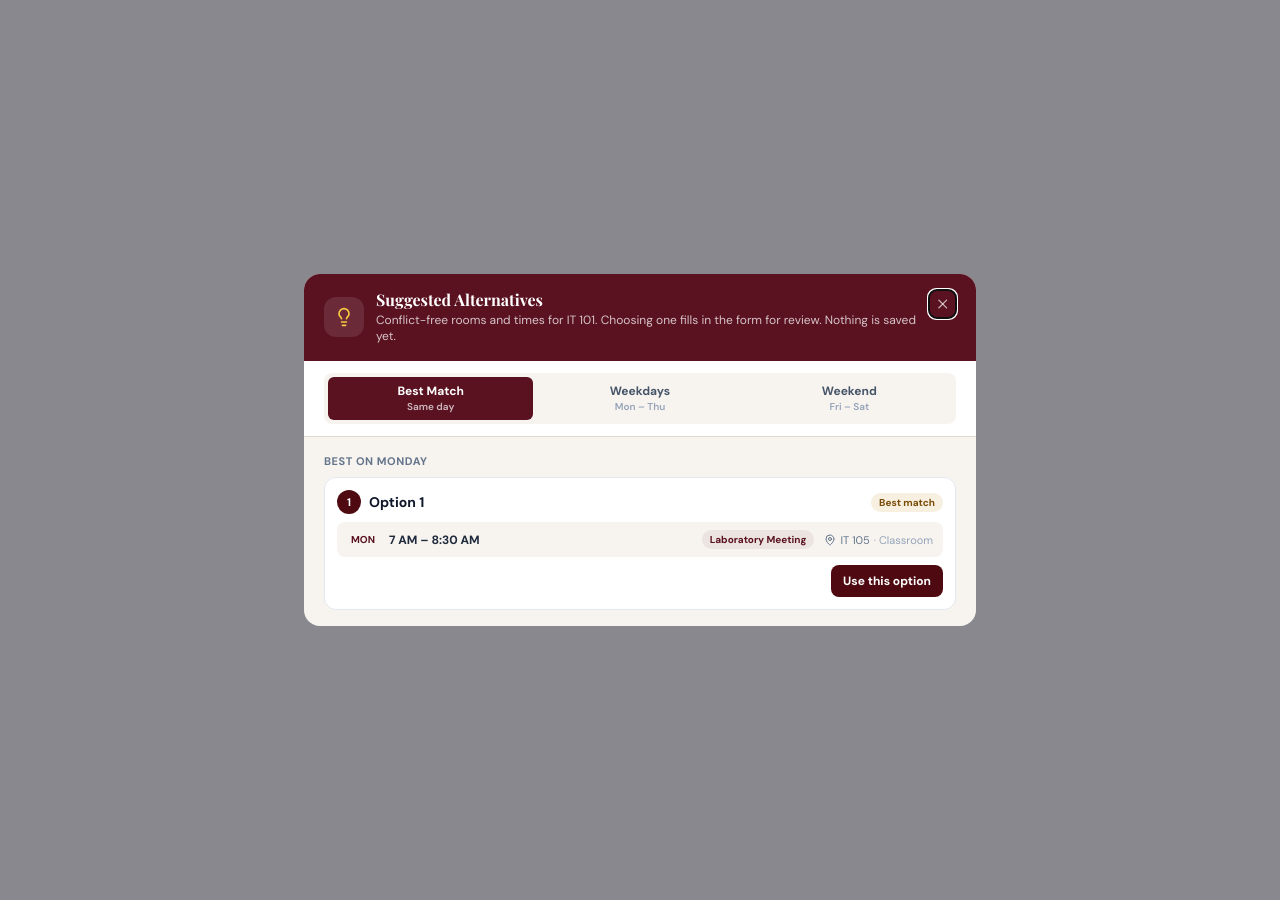
Test case: PlacementAlternatives › shows each option's day, time, room and meeting type
The width and height of the screenshot is (1280, 900).
Expected: the text "Mon" is shown, left=351, top=533, right=375, bottom=546
Expected: the text "7 AM – 8:30 AM" is shown, left=389, top=532, right=480, bottom=548
Step 1. Click the tab "Weekdays Mon – Thu" → x=640, y=398, box left=537, top=377, right=743, bottom=420
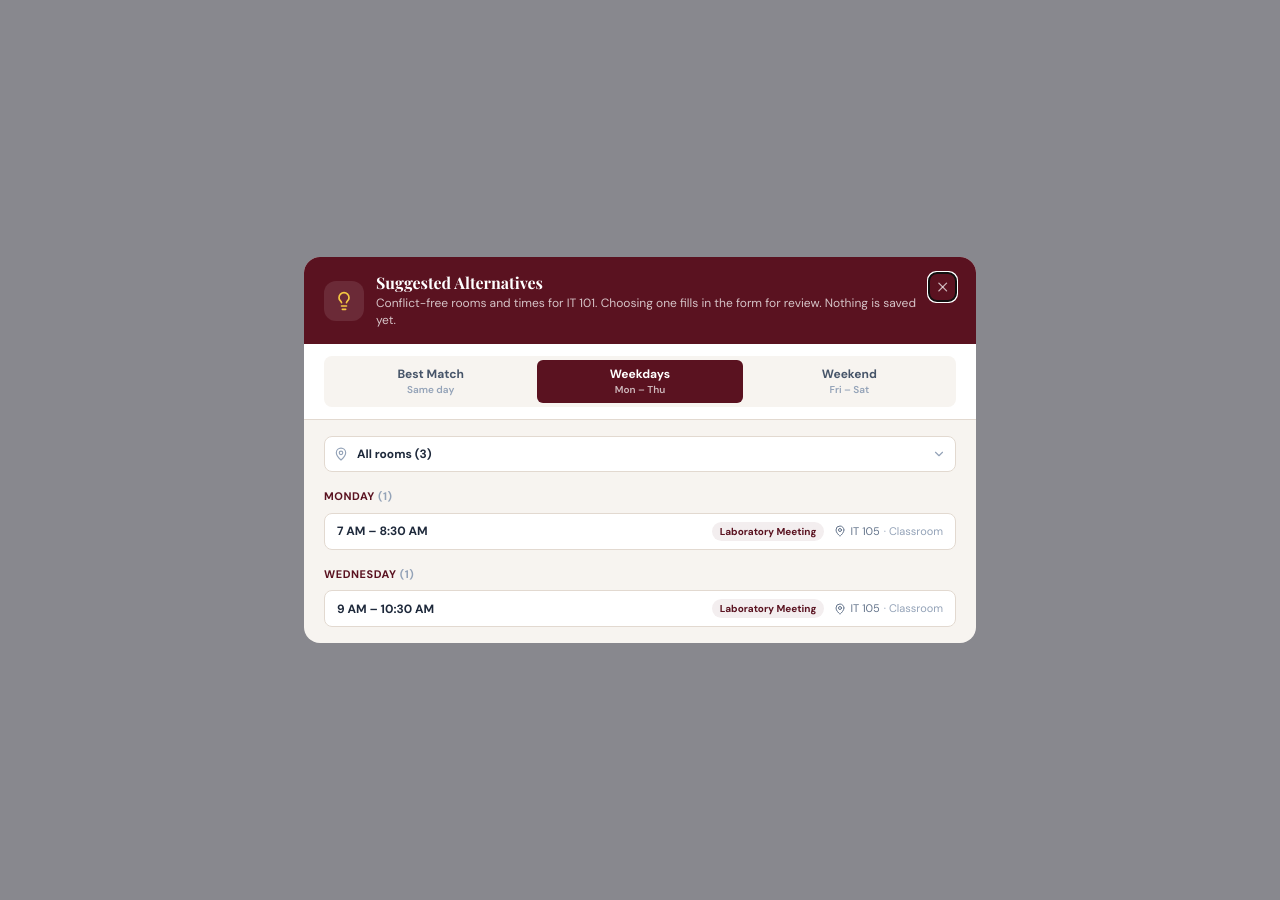
Now the text "Laboratory Meeting" is shown 2 times, box left=712, top=522, right=824, bottom=540; left=712, top=599, right=824, bottom=618
Now the text "IT 105" is shown 2 times, box left=850, top=523, right=880, bottom=539; left=850, top=600, right=880, bottom=617
